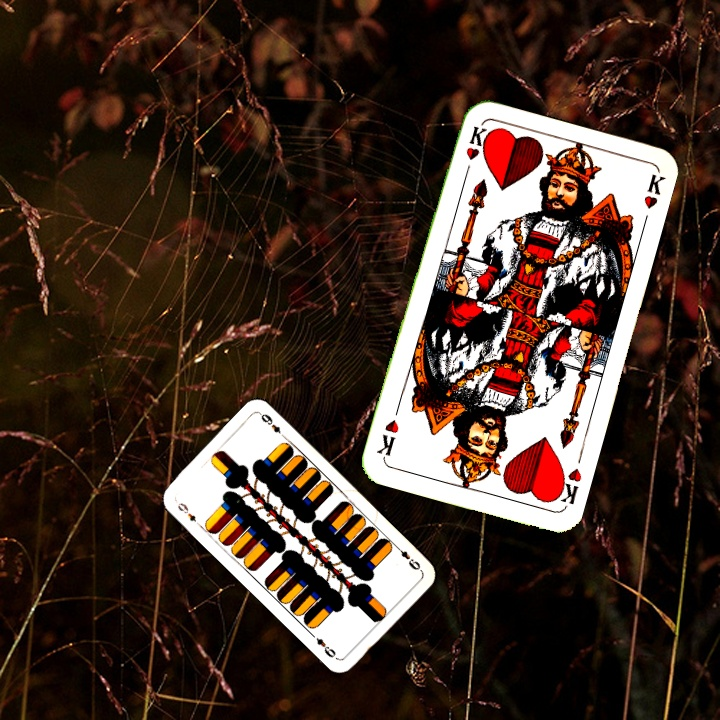E9: (392, 541, 423, 573), (173, 499, 199, 525)
HK: (460, 121, 489, 180), (550, 464, 584, 507)
